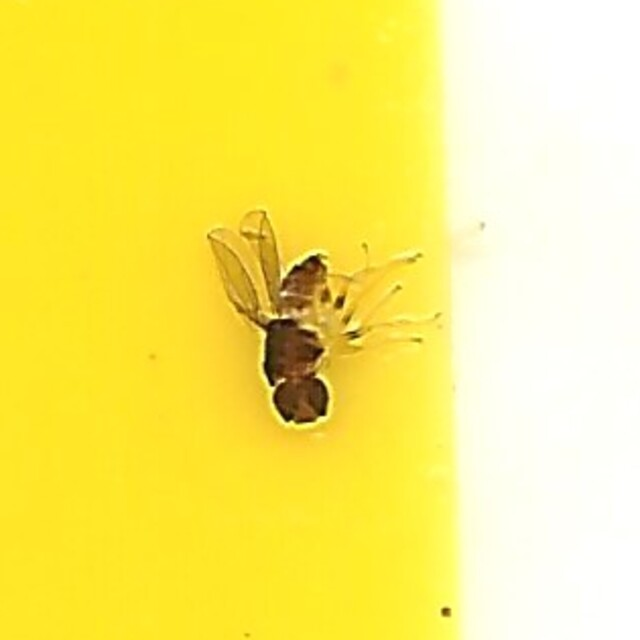Brachycera: (203, 211, 437, 429)
